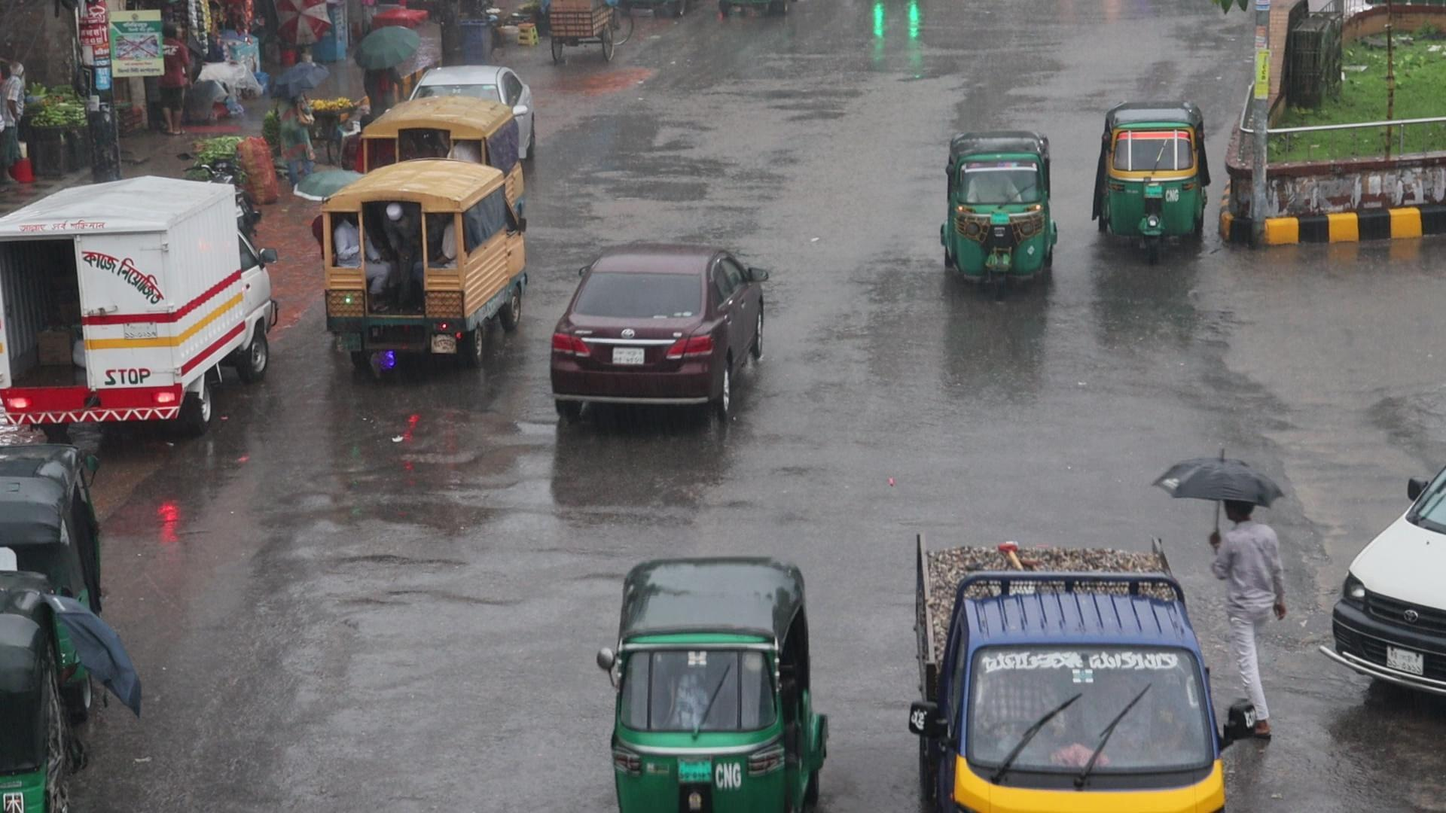Car: (546, 240, 772, 429)
Truck: (907, 527, 1225, 813), (316, 157, 528, 368)
